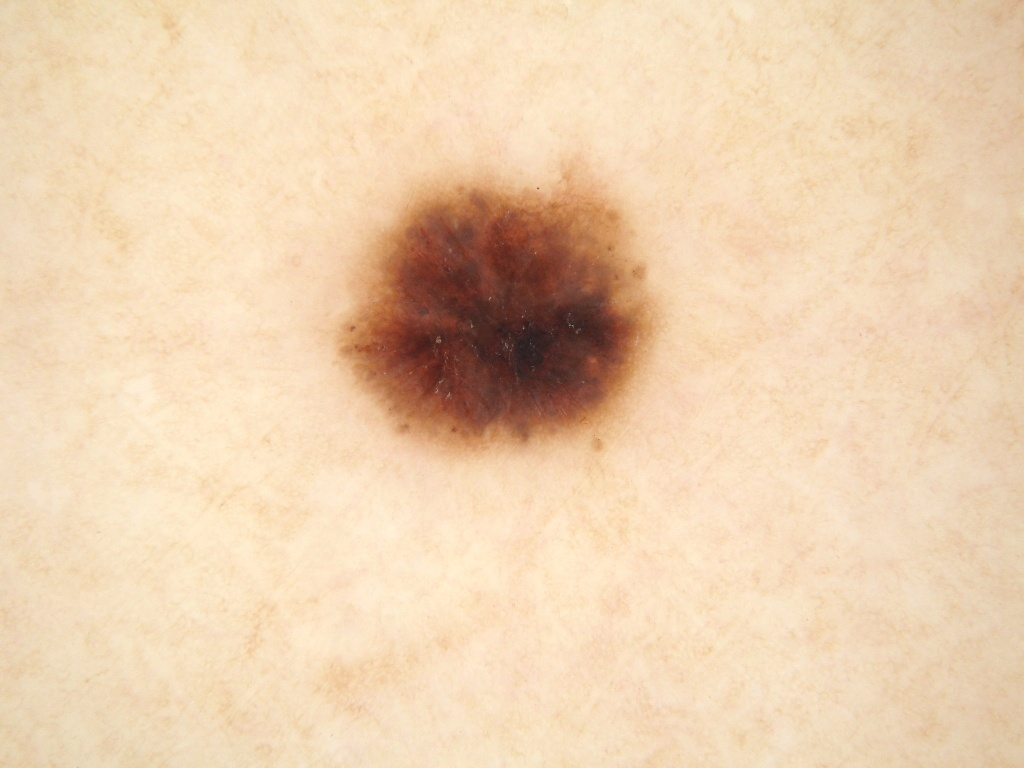Detected Lesion: (330, 165, 664, 442)
